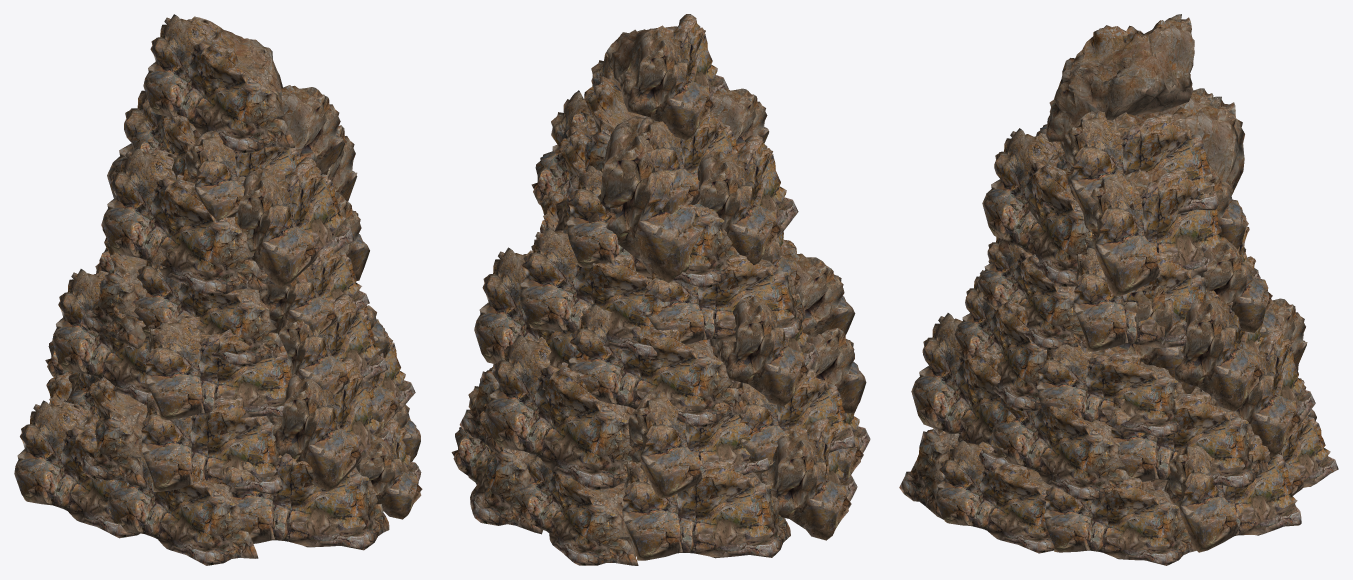
Rendered from cliff-medium.glb.
The picture shows the model from 3 angles, left to right: view 1: azimuth 30°, elevation 25°; view 2: azimuth 150°, elevation 25°; view 3: azimuth 270°, elevation 25°; orthographic projection. The views are drawn at different scales.
Visible parts, largest first — view 1: cliff-medium_Stone; view 2: cliff-medium_Stone; view 3: cliff-medium_Stone.
Boxes of the visible parts, x1,y1,x2,y2 form: cliff-medium_Stone: [14, 14, 422, 565]; cliff-medium_Stone: [451, 14, 870, 565]; cliff-medium_Stone: [899, 14, 1338, 565].
Bounding box in the file's own units: 13.45 × 16 × 13.89.
1 material, 1 textured.
